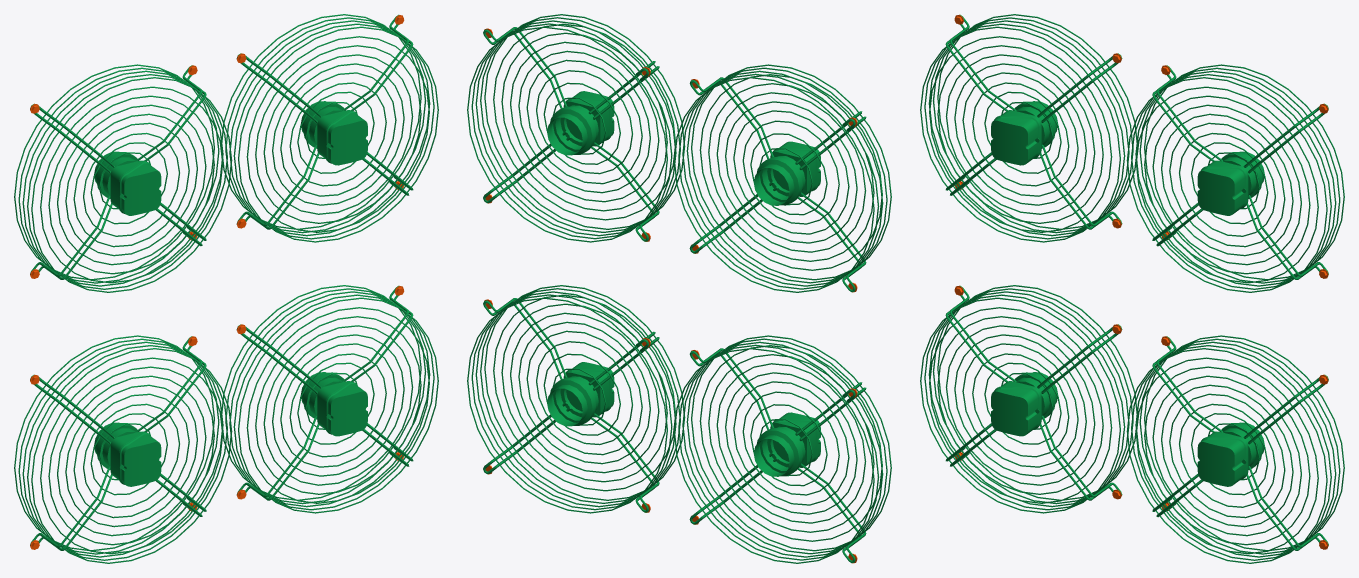
The model's file is ventilatorOutSide_korp.FBX.
3 renders of one model, left to right at view 1: azimuth 30°, elevation 25°; view 2: azimuth 150°, elevation 25°; view 3: azimuth 330°, elevation 25°, orthographic.
Parts seen in each view (by area): view 1: ventilatorOutSide_korp; view 2: ventilatorOutSide_korp; view 3: ventilatorOutSide_korp.
Part boxes in pixels (<box>): ventilatorOutSide_korp: <box>14,14,438,563</box>; ventilatorOutSide_korp: <box>467,14,891,563</box>; ventilatorOutSide_korp: <box>920,14,1344,563</box>.
Size of the model in its own units: 869 by 980 by 117.
